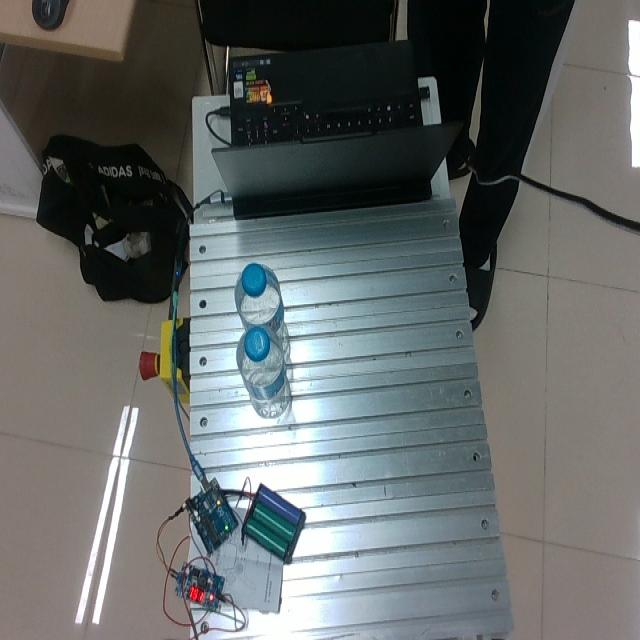lavie: (235, 262, 289, 362), (237, 322, 291, 418)
